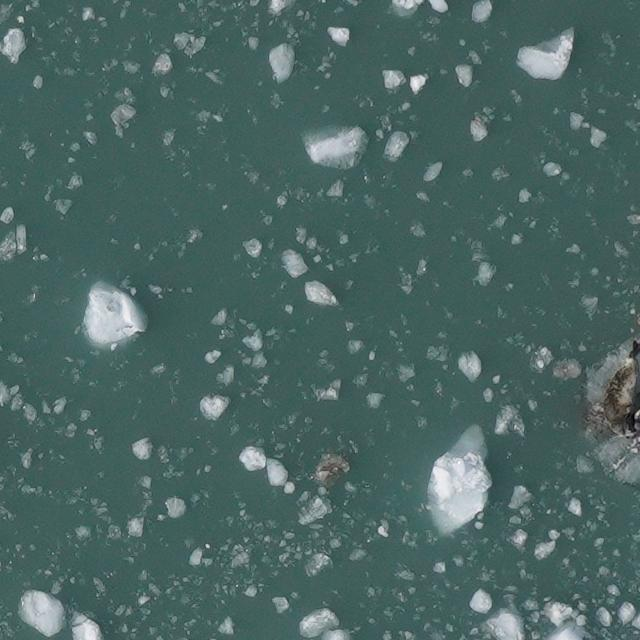seal: (597, 335, 640, 443)
